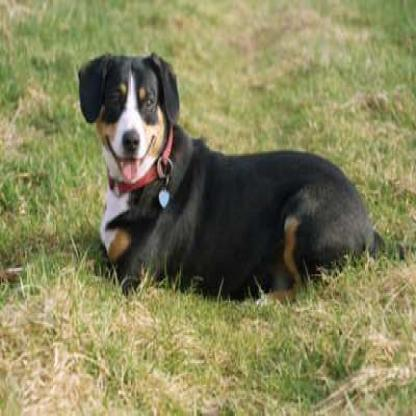EntleBucher: (73, 48, 377, 306)
